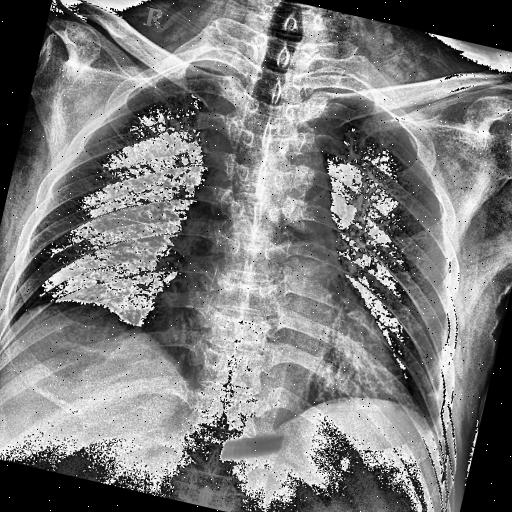5- ILD: (40, 147, 195, 305), (25, 180, 172, 324)
9- Other lesion: (199, 413, 302, 480)
